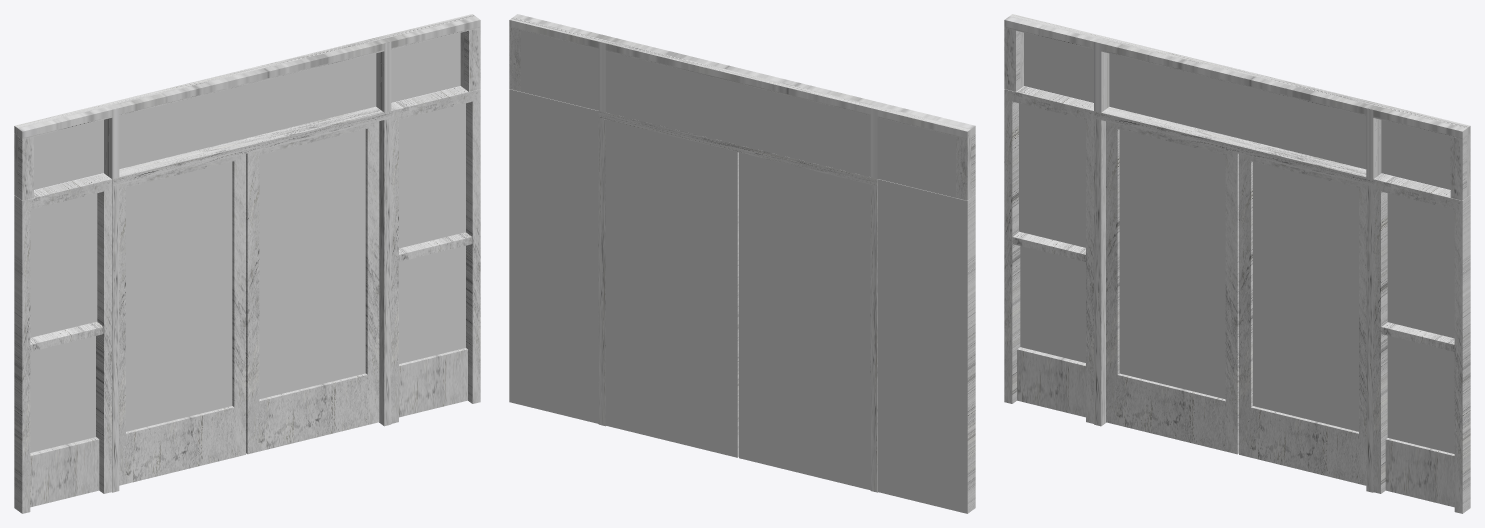
File: door shape 4.fbx
The picture shows the model from 3 angles, left to right: view 1: azimuth 30°, elevation 25°; view 2: azimuth 150°, elevation 25°; view 3: azimuth 330°, elevation 25°; orthographic projection.
Visible parts, largest first — view 1: Plane.004, Plane.001, Cube.001, Plane.002, Plane.003, Cube; view 2: Plane.004, Plane.001, Cube.001, Plane.002, Plane.003, Cube; view 3: Plane.001, Plane.004, Cube.001, Plane.003, Plane.002, Cube.
Boxes of the visible parts, x1,y1,x2,y2 form: Plane.004: [246, 121, 379, 454]; Plane.001: [119, 154, 245, 485]; Cube.001: [14, 14, 480, 200]; Plane.002: [14, 173, 111, 513]; Plane.003: [391, 86, 480, 423]; Cube: [104, 42, 391, 492]; Plane.004: [605, 120, 738, 457]; Plane.001: [739, 152, 870, 490]; Cube.001: [509, 14, 975, 200]; Plane.002: [878, 179, 975, 513]; Plane.003: [509, 89, 598, 423]; Cube: [598, 42, 877, 492]; Plane.001: [1106, 121, 1238, 454]; Plane.004: [1239, 154, 1366, 485]; Cube.001: [1004, 14, 1470, 200]; Plane.003: [1373, 173, 1470, 513]; Plane.002: [1004, 86, 1093, 423]; Cube: [1094, 42, 1381, 492].
Bounding box in the file's own units: 1043 × 833 × 31.82.
3 materials, 1 textured.
